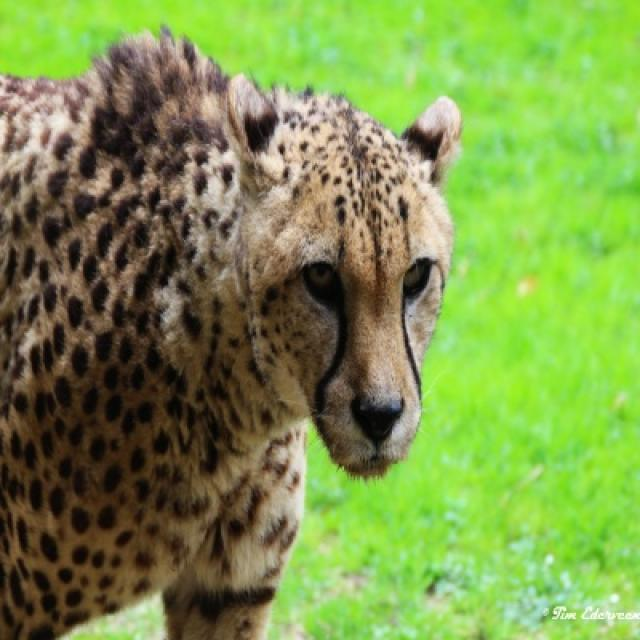Cheetah: (0, 27, 462, 638)
